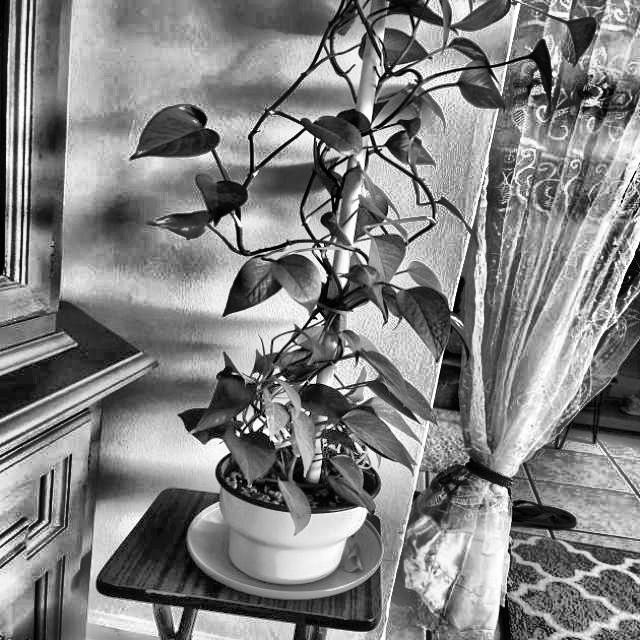plants: (132, 0, 576, 559)
